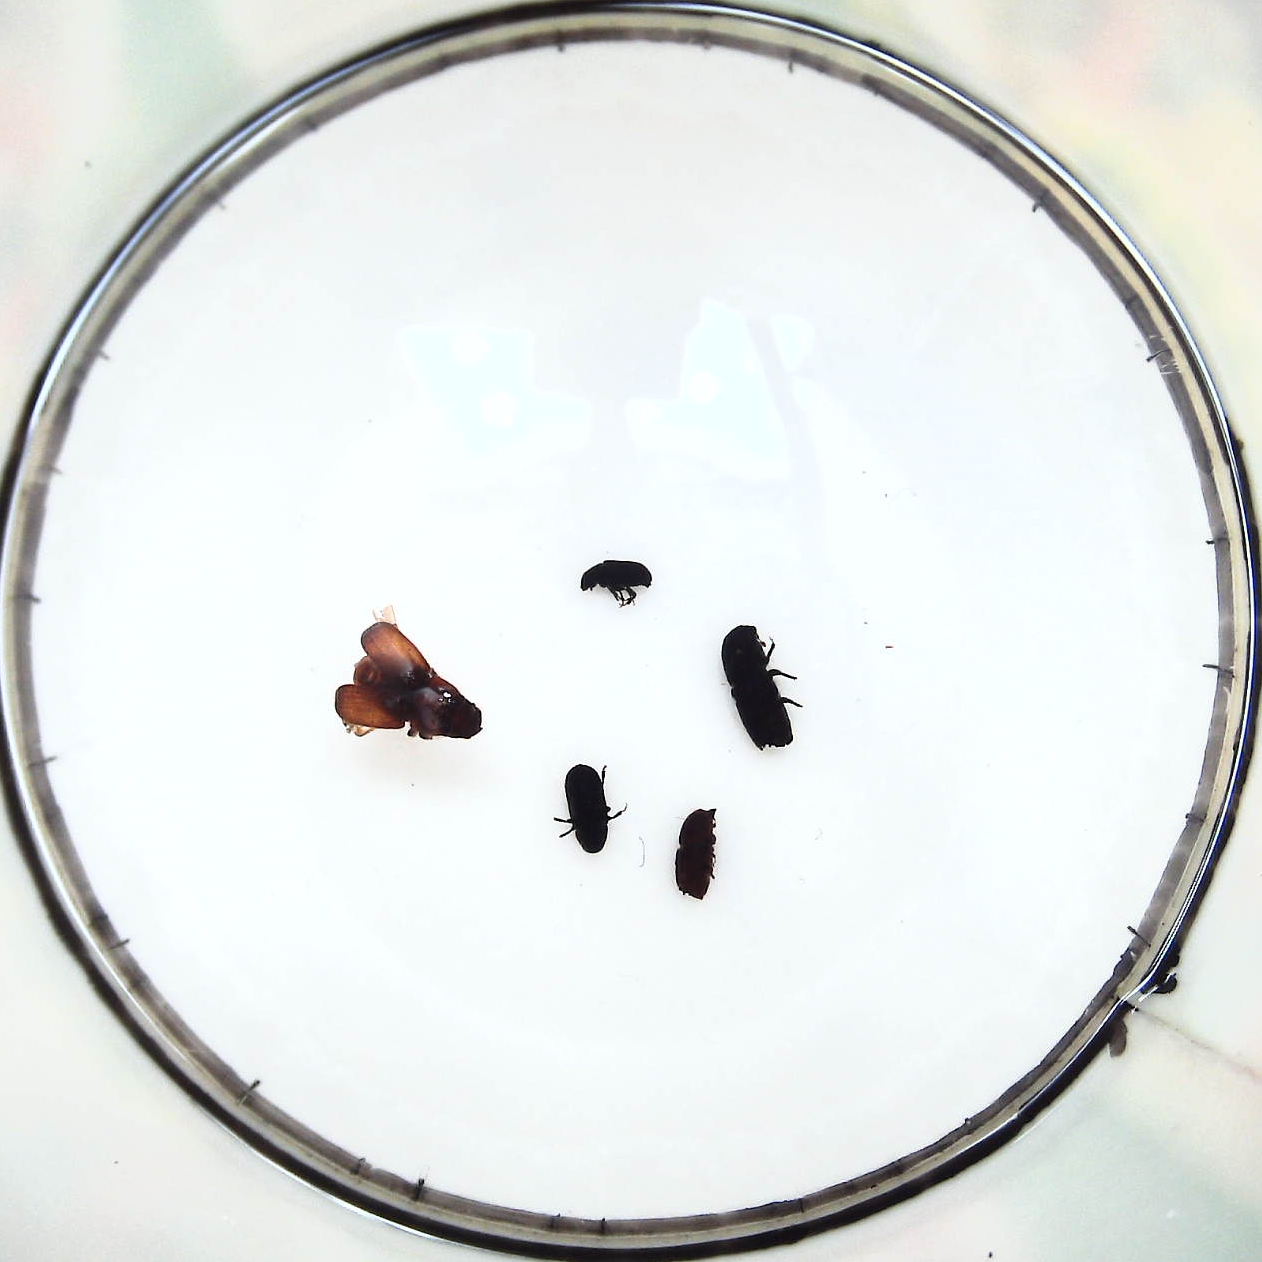Boerner: (723, 615, 790, 751)
Leconte: (335, 617, 482, 741)
Linnaeus: (670, 807, 726, 894)
armandi: (562, 760, 611, 856)
coleoptera: (579, 554, 648, 602)
